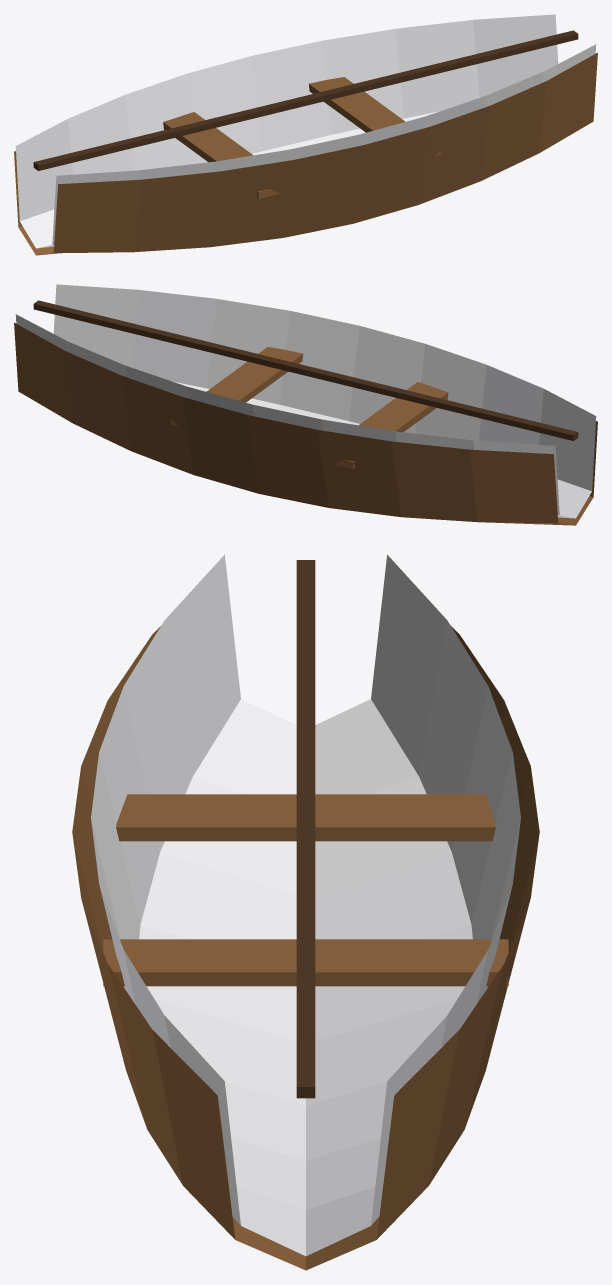
File: SM_Rowboat.fbx
The picture shows the model from 3 angles, top to bottom: view 1: azimuth 30°, elevation 25°; view 2: azimuth 150°, elevation 25°; view 3: azimuth 270°, elevation 25°; orthographic projection. The views are drawn at different scales.
Parts seen in each view (by area): view 1: SM_Rowboat; view 2: SM_Rowboat; view 3: SM_Rowboat.
Boxes of the visible parts, bbox=[...] form: SM_Rowboat: bbox=[14, 14, 597, 255]; SM_Rowboat: bbox=[14, 284, 597, 525]; SM_Rowboat: bbox=[72, 554, 539, 1270].
Size of what is drawn, in the model's own units: 4 by 0.85 by 1.5.
